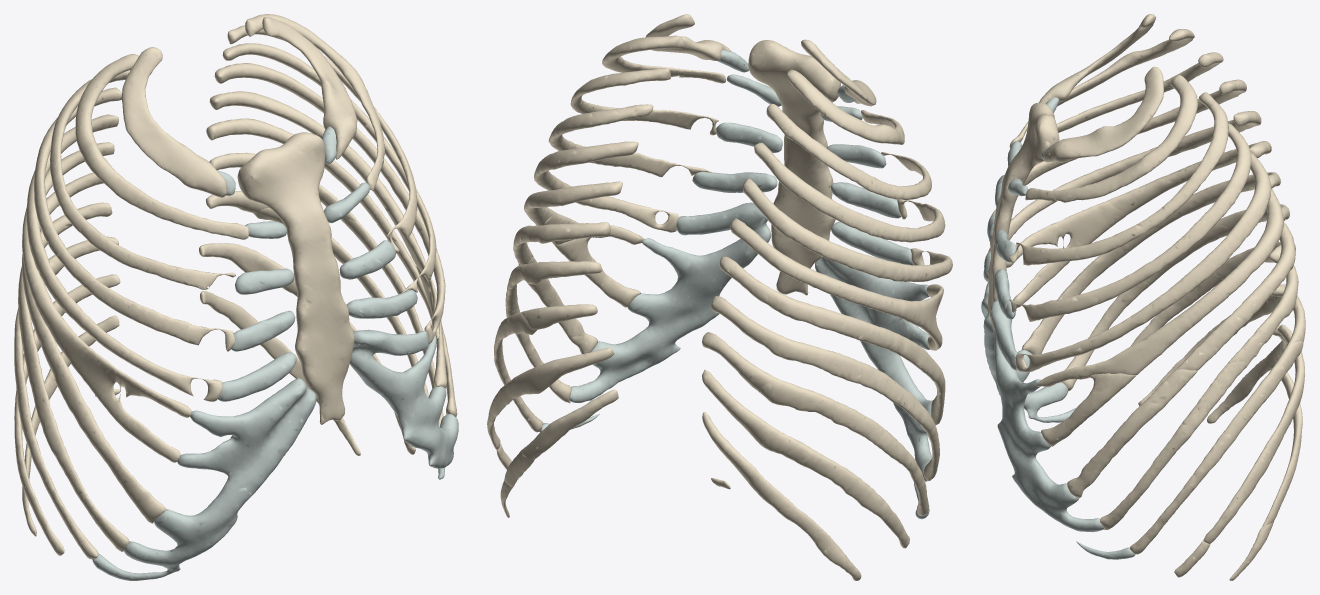
File: s1045_ribcage.glb
The picture shows the model from 3 angles, left to right: view 1: azimuth 30°, elevation 25°; view 2: azimuth 150°, elevation 25°; view 3: azimuth 270°, elevation 25°; orthographic projection. The views are drawn at different scales.
Parts seen in each view (by area): view 1: costal_cartilages, sternum, rib_right_6, rib_right_1, rib_right_4, rib_right_7, rib_right_2, rib_right_5, rib_right_8, rib_right_3, rib_left_5, rib_left_6 (+13 smaller); view 2: costal_cartilages, sternum, rib_right_8, rib_right_9, rib_right_7, rib_right_10, rib_right_6, rib_right_5, rib_right_4, rib_left_5, rib_left_7, rib_right_11 (+13 smaller); view 3: costal_cartilages, rib_left_6, rib_right_6, rib_left_5, rib_left_7, rib_left_4, rib_left_8, rib_left_3, rib_left_10, sternum, rib_left_9, rib_left_2 (+13 smaller).
Part boxes in pixels (<box>): costal_cartilages: <box>92,126,458,580</box>; sternum: <box>237,132,354,424</box>; rib_right_6: <box>22,142,191,462</box>; rib_right_1: <box>122,47,226,197</box>; rib_right_4: <box>34,87,235,351</box>; rib_right_7: <box>22,172,167,523</box>; rib_right_2: <box>75,54,248,239</box>; rib_right_5: <box>26,114,222,401</box>; rib_right_8: <box>18,202,129,551</box>; rib_right_3: <box>50,70,235,289</box>; rib_left_5: <box>214,63,445,344</box>; rib_left_6: <box>209,91,439,339</box>; costal_cartilages: <box>539,49,932,519</box>; sternum: <box>748,40,840,295</box>; rib_right_8: <box>711,296,939,481</box>; rib_right_9: <box>702,332,929,516</box>; rib_right_7: <box>719,256,945,425</box>; rib_right_10: <box>702,369,909,548</box>; rib_right_6: <box>730,218,943,350</box>; rib_right_5: <box>743,178,952,281</box>; rib_right_4: <box>754,142,945,242</box>; rib_left_5: <box>534,141,679,232</box>; rib_left_7: <box>513,222,640,307</box>; rib_right_11: <box>702,412,861,580</box>; costal_cartilages: <box>981,97,1135,559</box>; rib_left_6: <box>1036,188,1283,386</box>; rib_right_6: <box>1006,141,1271,307</box>; rib_left_5: <box>1016,152,1271,372</box>; rib_left_7: <box>1041,222,1295,446</box>; rib_left_4: <box>1009,123,1251,321</box>; rib_left_8: <box>1067,265,1298,497</box>; rib_left_3: <box>1009,92,1228,265</box>; rib_left_10: <box>1130,341,1303,577</box>; sternum: <box>988,102,1059,337</box>; rib_left_9: <box>1100,295,1305,530</box>; rib_left_2: <box>1025,75,1197,202</box>.
Bounding box in the file's own units: 0.2959 × 0.3591 × 0.232.
